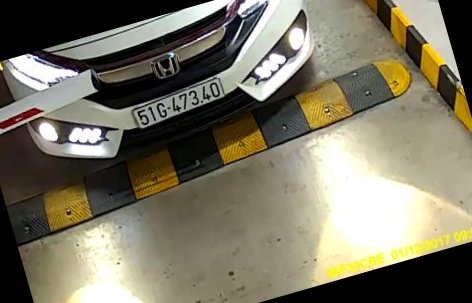plate: (124, 76, 232, 137)
